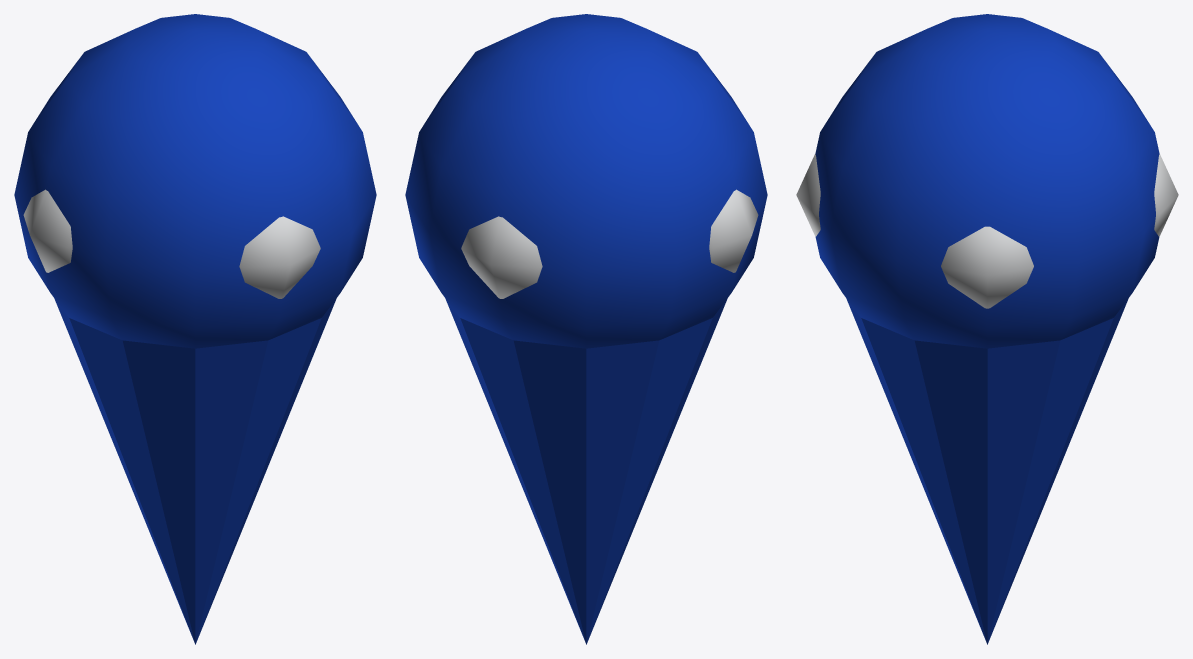
Rendered from pin.glb.
The picture shows the model from 3 angles, left to right: view 1: azimuth 30°, elevation 25°; view 2: azimuth 150°, elevation 25°; view 3: azimuth 270°, elevation 25°; orthographic projection.
Visible parts, largest first — view 1: pin; view 2: pin; view 3: pin.
Boxes of the visible parts, <box> form: pin: <box>14,14,376,644</box>; pin: <box>405,14,767,644</box>; pin: <box>796,14,1178,644</box>.
Bounding box in the file's own units: 5.7 × 10.1 × 5.7.
